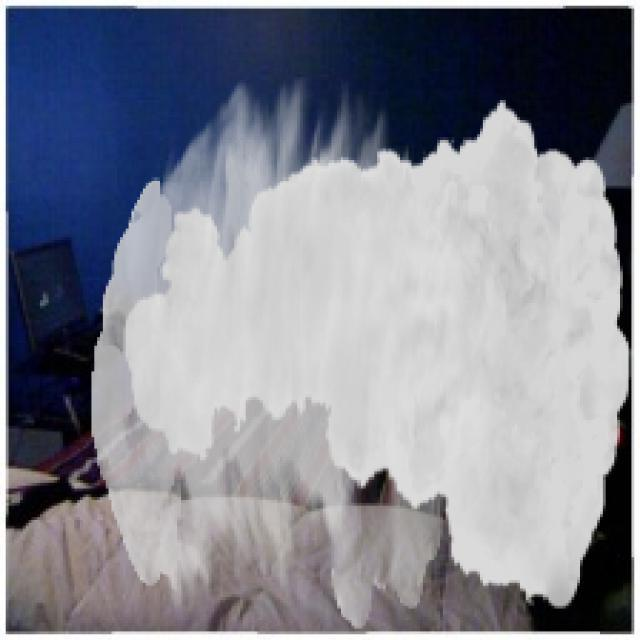Smoke: (91, 77, 632, 629)
